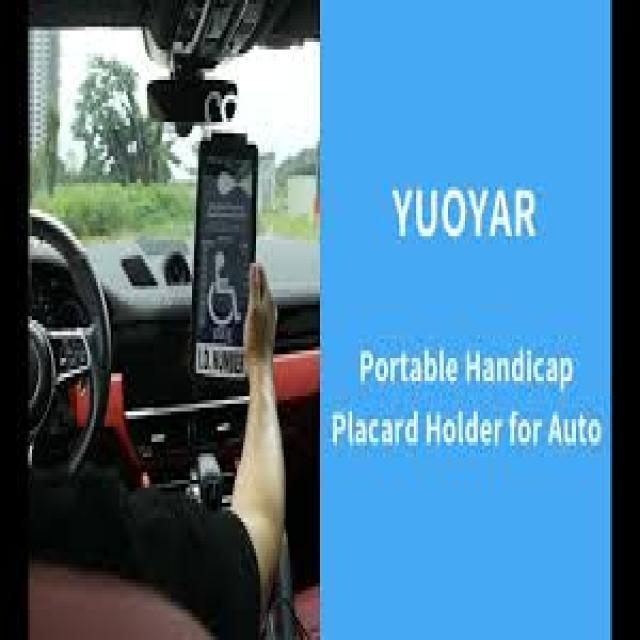symbol_of_access: (205, 249, 243, 329)
